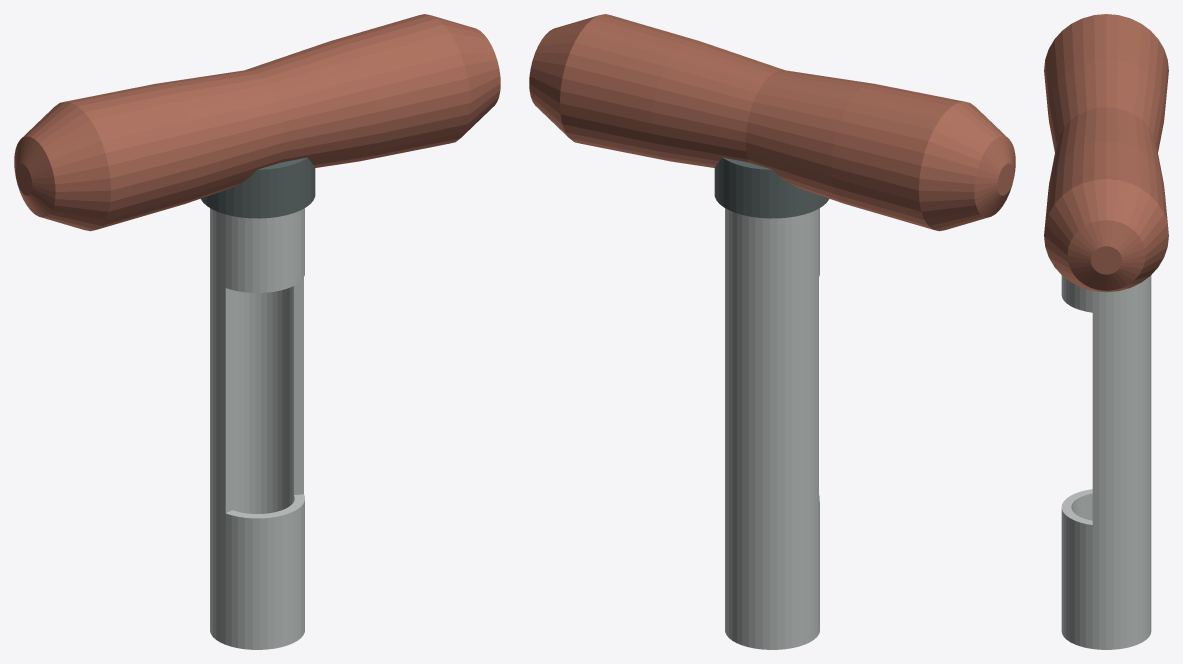
3 views of the same model, side by side, from view 1: azimuth 30°, elevation 25°; view 2: azimuth 150°, elevation 25°; view 3: azimuth 270°, elevation 25° (orthographic). The views are drawn at different scales.
Parts seen in each view (by area): view 1: WholeRoundedTransversePalmGrip, WholeOpenMouthTubeWithRealWideSideWindow, WholeSeatedNeckCollar; view 2: WholeRoundedTransversePalmGrip, WholeOpenMouthTubeWithRealWideSideWindow, WholeSeatedNeckCollar; view 3: WholeRoundedTransversePalmGrip, WholeOpenMouthTubeWithRealWideSideWindow.
Boxes of the visible parts, bbox=[...] form: WholeRoundedTransversePalmGrip: bbox=[14, 14, 500, 231]; WholeOpenMouthTubeWithRealWideSideWindow: bbox=[210, 208, 304, 649]; WholeSeatedNeckCollar: bbox=[201, 157, 315, 218]; WholeRoundedTransversePalmGrip: bbox=[529, 14, 1015, 231]; WholeOpenMouthTubeWithRealWideSideWindow: bbox=[725, 208, 819, 649]; WholeSeatedNeckCollar: bbox=[714, 157, 828, 218]; WholeRoundedTransversePalmGrip: bbox=[1044, 14, 1168, 292]; WholeOpenMouthTubeWithRealWideSideWindow: bbox=[1061, 275, 1151, 649].
Bounding box in the file's own units: 0.13 × 0.151 × 0.032.
